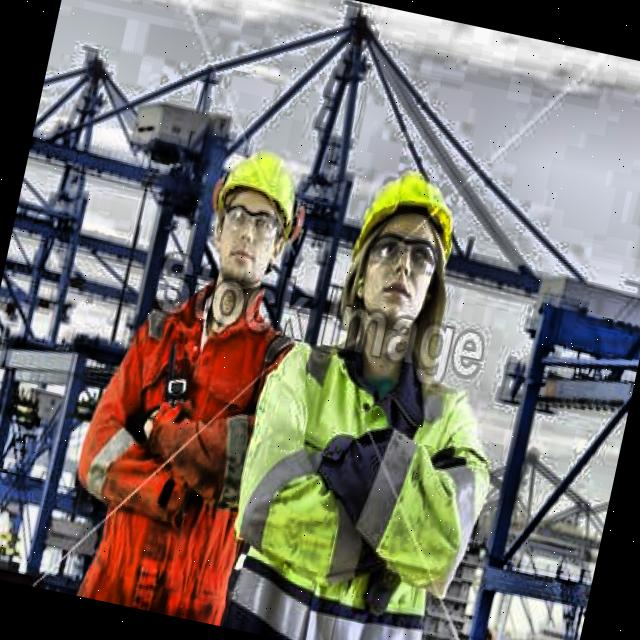helmet: (322, 162, 470, 372), (177, 136, 316, 305)
